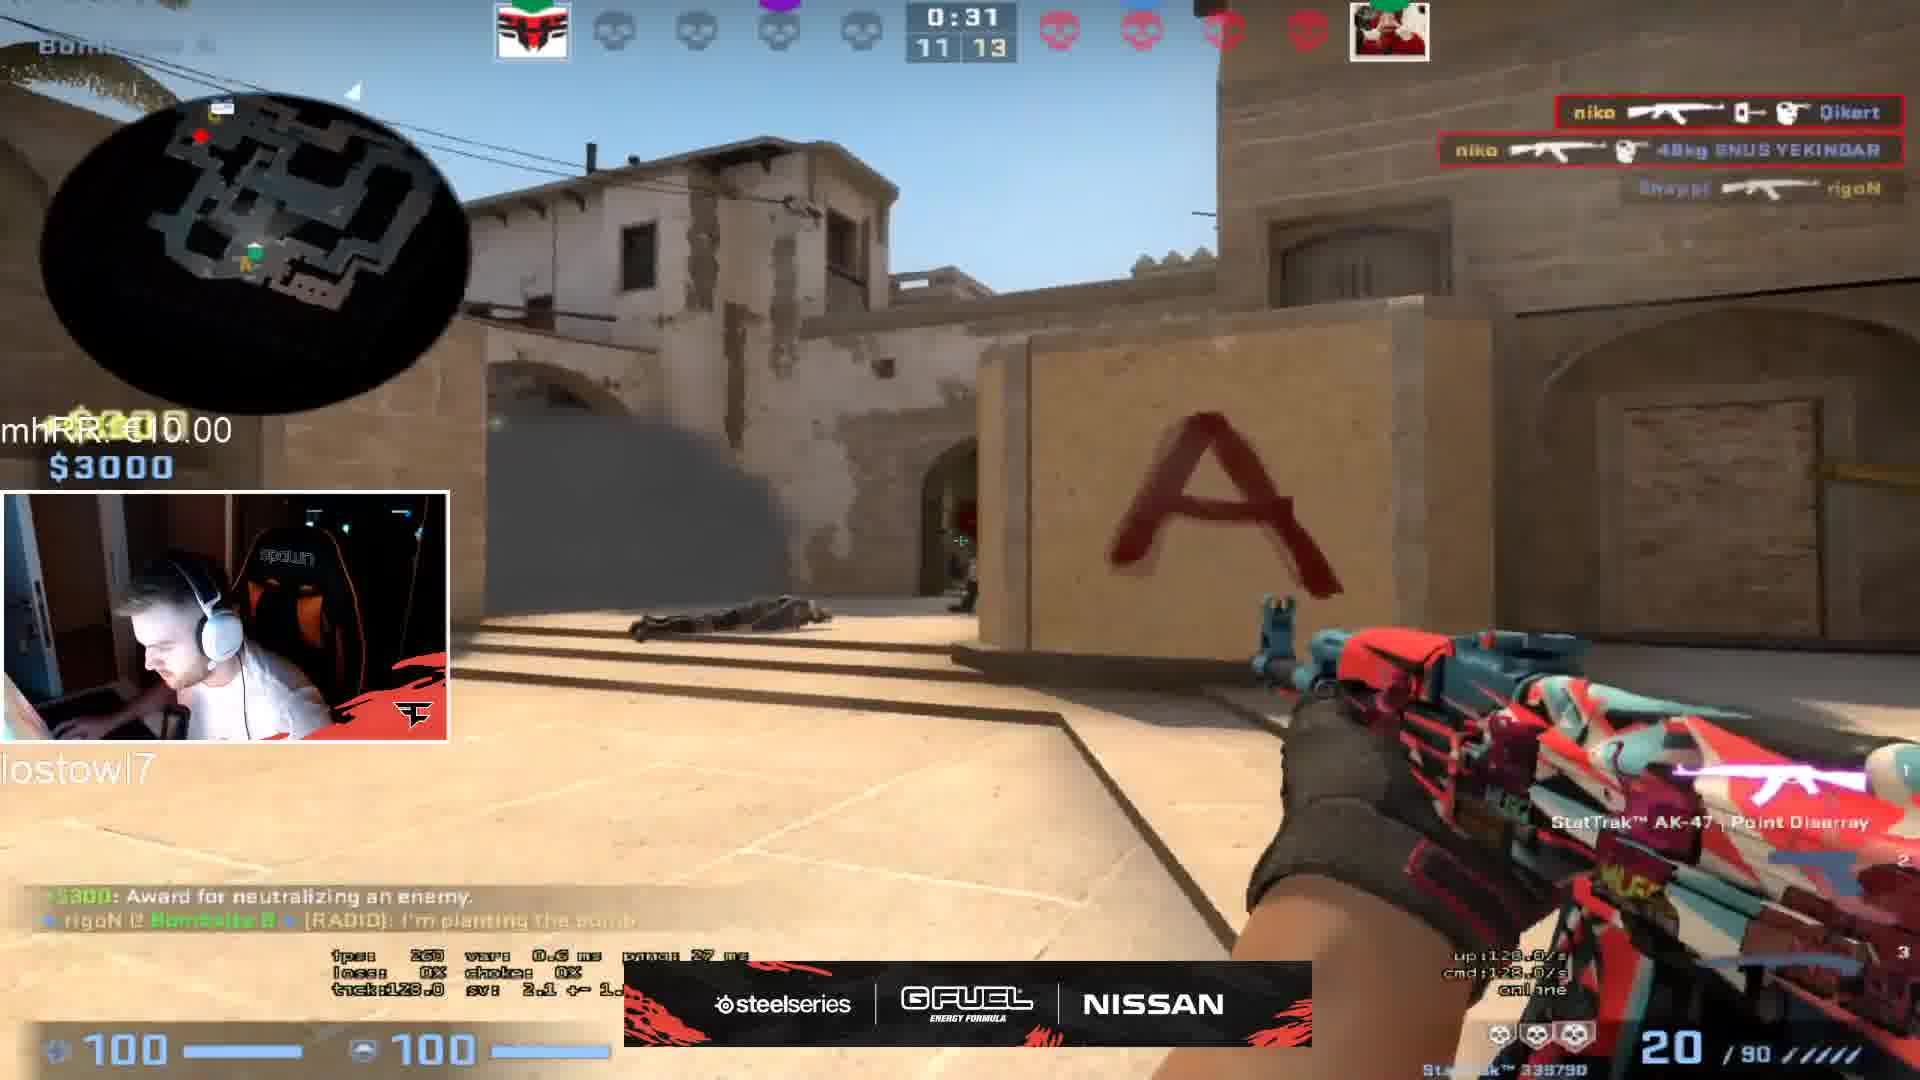enemy: (944, 524, 985, 622)
